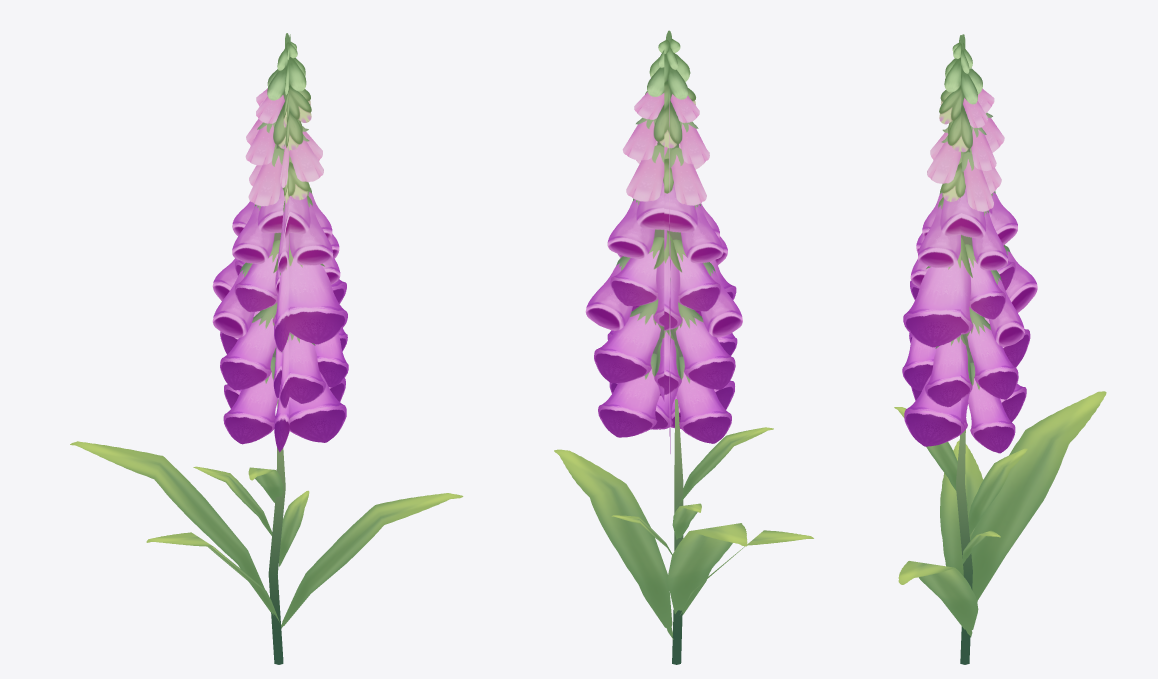
File: foxglove_1_low.fbx
3 views of the same model, side by side, from view 1: azimuth 30°, elevation 25°; view 2: azimuth 150°, elevation 25°; view 3: azimuth 270°, elevation 25° (orthographic).
Parts seen in each view (by area): view 1: foxglove_low; view 2: foxglove_low; view 3: foxglove_low.
Boxes of the visible parts, box(x1,y1,x2,y2) form: foxglove_low: box(70, 33, 463, 664); foxglove_low: box(554, 30, 813, 664); foxglove_low: box(894, 34, 1106, 664).
Size of the model in its own units: 165 by 281 by 104.
